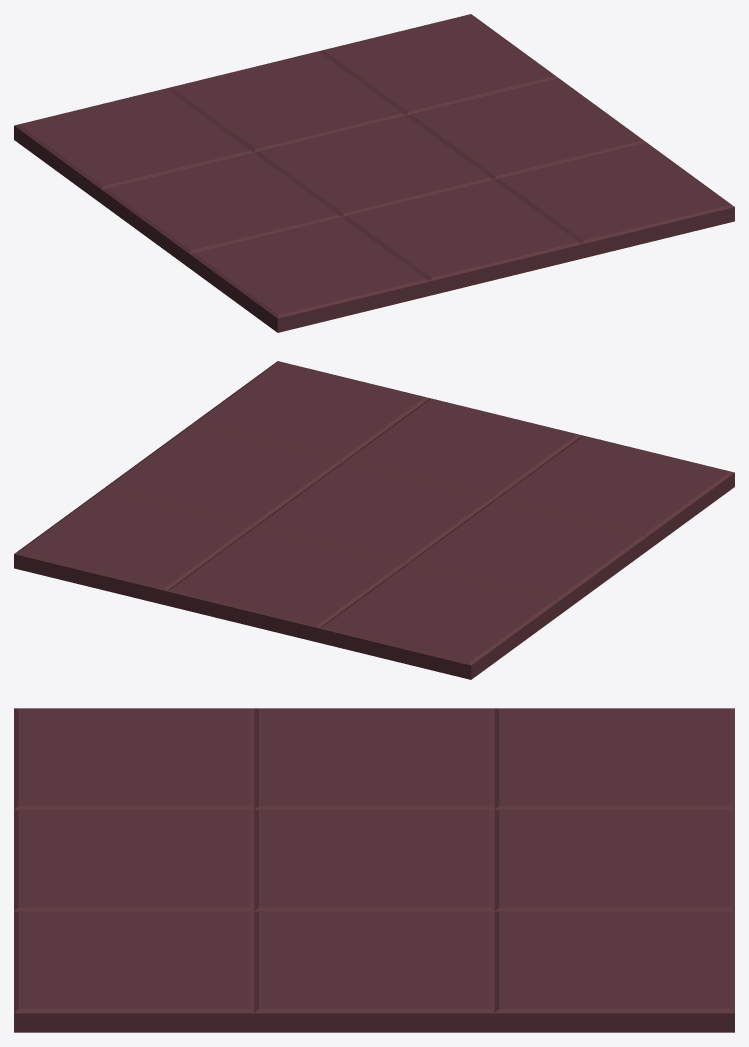
File: buildings-floor-tiles-3x3m.glb
3 views of the same model, one above another, from view 1: azimuth 30°, elevation 25°; view 2: azimuth 150°, elevation 25°; view 3: azimuth 270°, elevation 25° (orthographic). The views are drawn at different scales.
Parts seen in each view (by area): view 1: floor-tiles-3x3m; view 2: floor-tiles-3x3m; view 3: floor-tiles-3x3m.
Boxes of the visible parts, x1,y1,x2,y2 form: floor-tiles-3x3m: [14, 14, 734, 332]; floor-tiles-3x3m: [14, 361, 734, 679]; floor-tiles-3x3m: [14, 708, 734, 1032].
Bounding box in the file's own units: 3 × 0.1 × 3.
